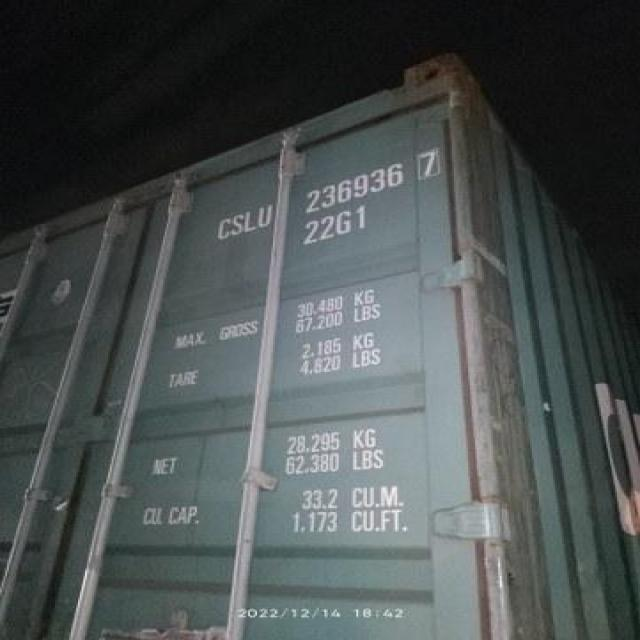container_number_h: (137, 144, 506, 254)
